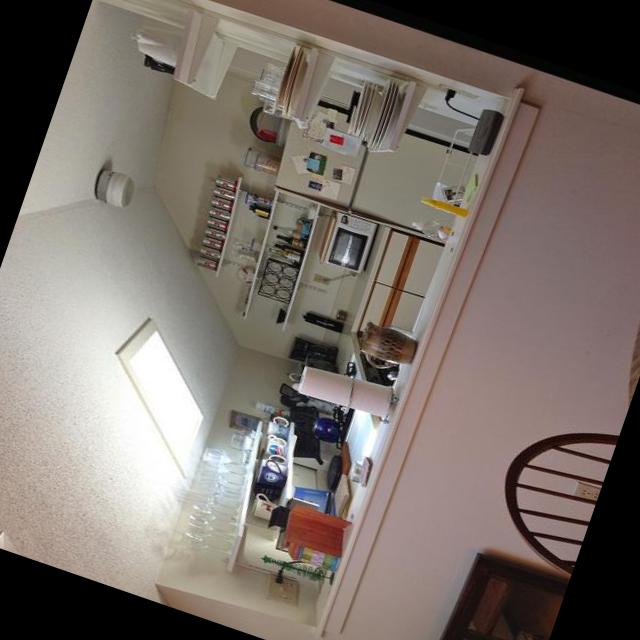bottle: (408, 212, 453, 244), (420, 193, 470, 220), (272, 222, 309, 241), (266, 244, 304, 262), (274, 230, 308, 248), (274, 240, 303, 256), (214, 172, 238, 190), (212, 183, 236, 200), (247, 202, 271, 218), (206, 214, 228, 230)
bowl: (358, 82, 389, 140), (346, 78, 372, 134), (354, 82, 378, 138), (351, 81, 374, 132), (345, 105, 360, 134), (248, 238, 264, 254)
chair: (481, 403, 619, 576)
cup: (256, 456, 290, 490), (258, 448, 292, 478), (249, 491, 281, 521), (224, 430, 254, 454), (250, 78, 281, 100), (264, 433, 290, 459), (266, 413, 292, 439), (252, 478, 280, 502), (263, 62, 285, 82), (264, 98, 275, 107)
diningtable: (613, 235, 640, 371)
microwave: (324, 210, 378, 272)
oven: (334, 329, 394, 388)
refrigerator: (268, 95, 474, 248)
wine glass: (180, 530, 233, 564), (186, 512, 242, 544), (193, 474, 246, 505), (199, 452, 251, 483), (183, 520, 238, 548), (192, 501, 242, 529), (196, 488, 242, 516), (200, 466, 247, 492), (202, 442, 242, 468)
